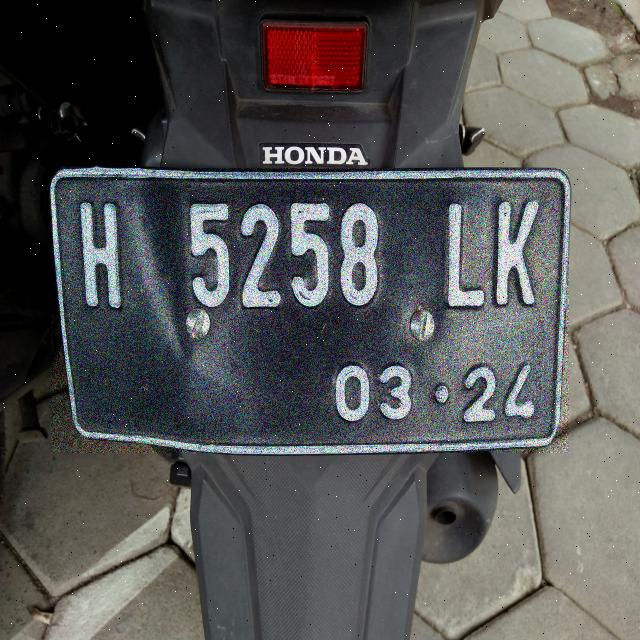plate: (51, 169, 568, 452)
